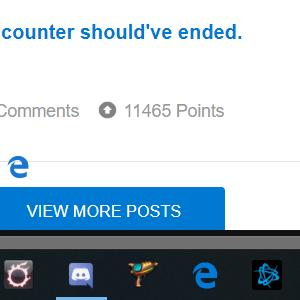edge: (192, 262, 217, 289), (7, 155, 29, 178)
